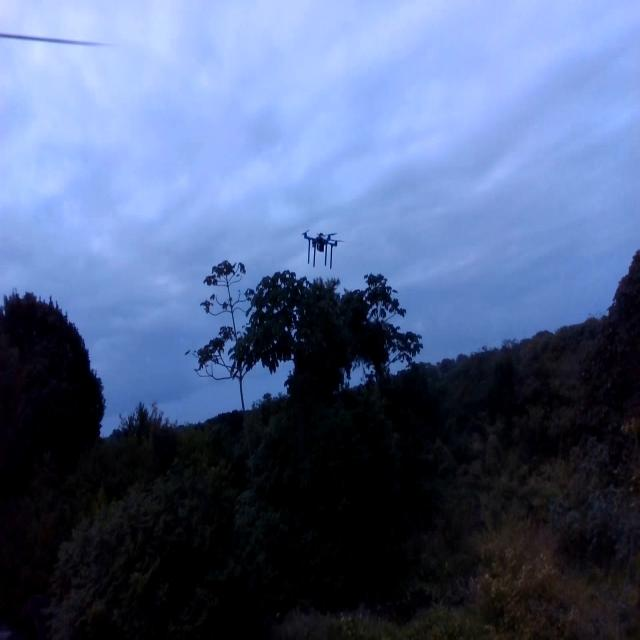-uav-: (298, 213, 344, 274)
